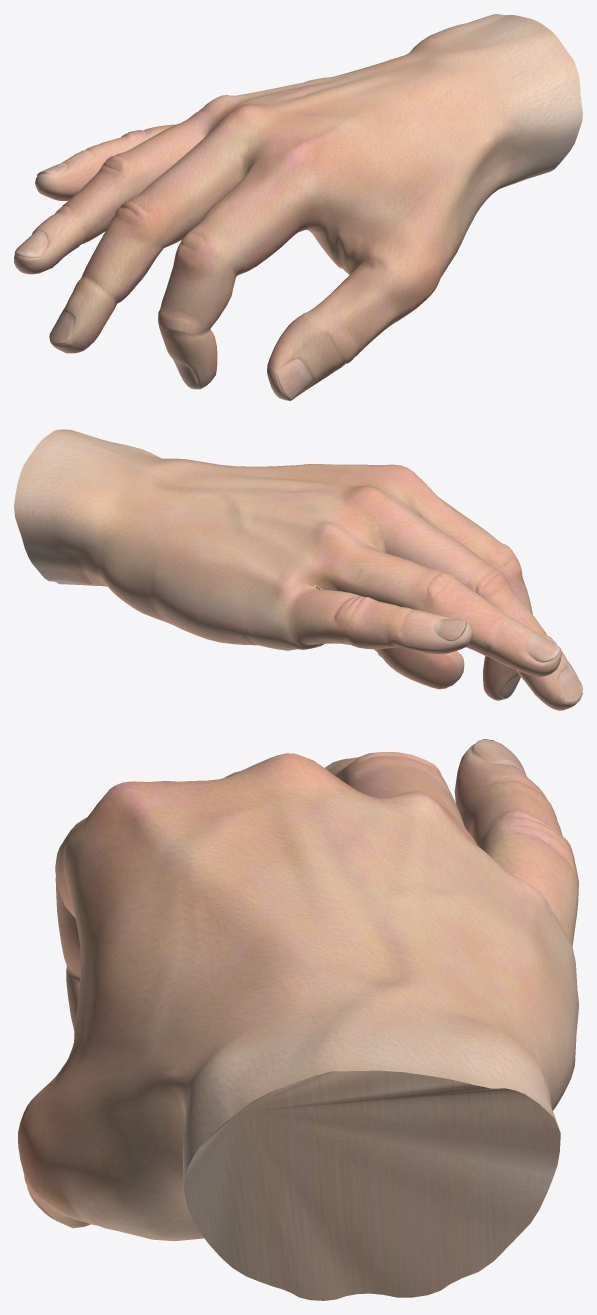
File: hand_08.obj
The picture shows the model from 3 angles, top to bottom: view 1: azimuth 30°, elevation 25°; view 2: azimuth 150°, elevation 25°; view 3: azimuth 270°, elevation 25°; orthographic projection. The views are drawn at different scales.
Parts seen in each view (by area): view 1: Figure_2; view 2: Figure_2; view 3: Figure_2.
Boxes of the visible parts, box(x1,y1,x2,y2) form: Figure_2: box(14, 14, 582, 400); Figure_2: box(14, 429, 582, 710); Figure_2: box(18, 739, 578, 1300).
Size of the model in its own units: 0.8497 by 0.374 by 0.4029.
Materials: 2 (2 with a texture image).
